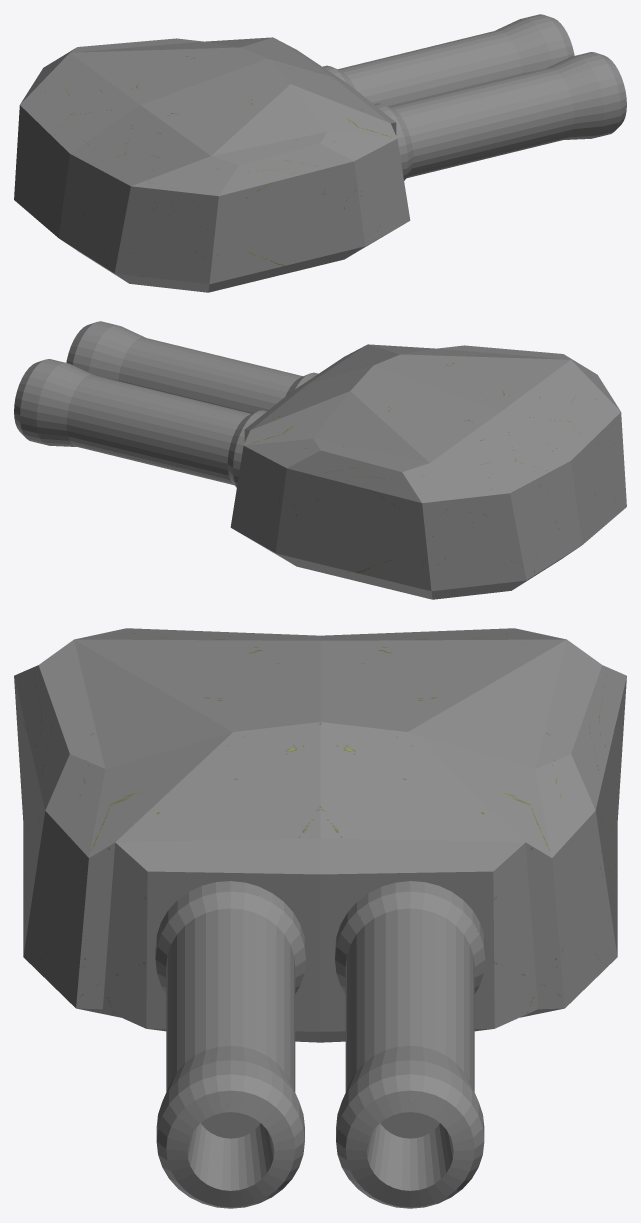
File: DoubleBarrel.fbx
3 renders of one model, top to bottom at view 1: azimuth 30°, elevation 25°; view 2: azimuth 150°, elevation 25°; view 3: azimuth 270°, elevation 25°, orthographic. The views are drawn at different scales.
Parts seen in each view (by area): view 1: DoubleBarrel; view 2: DoubleBarrel; view 3: DoubleBarrel.
Part boxes in pixels (x1,y1,x2,y2): DoubleBarrel: (14,14,626,292); DoubleBarrel: (14,321,626,599); DoubleBarrel: (14,628,626,1208).
Size of the model in its own units: 920 by 536 by 1596.
